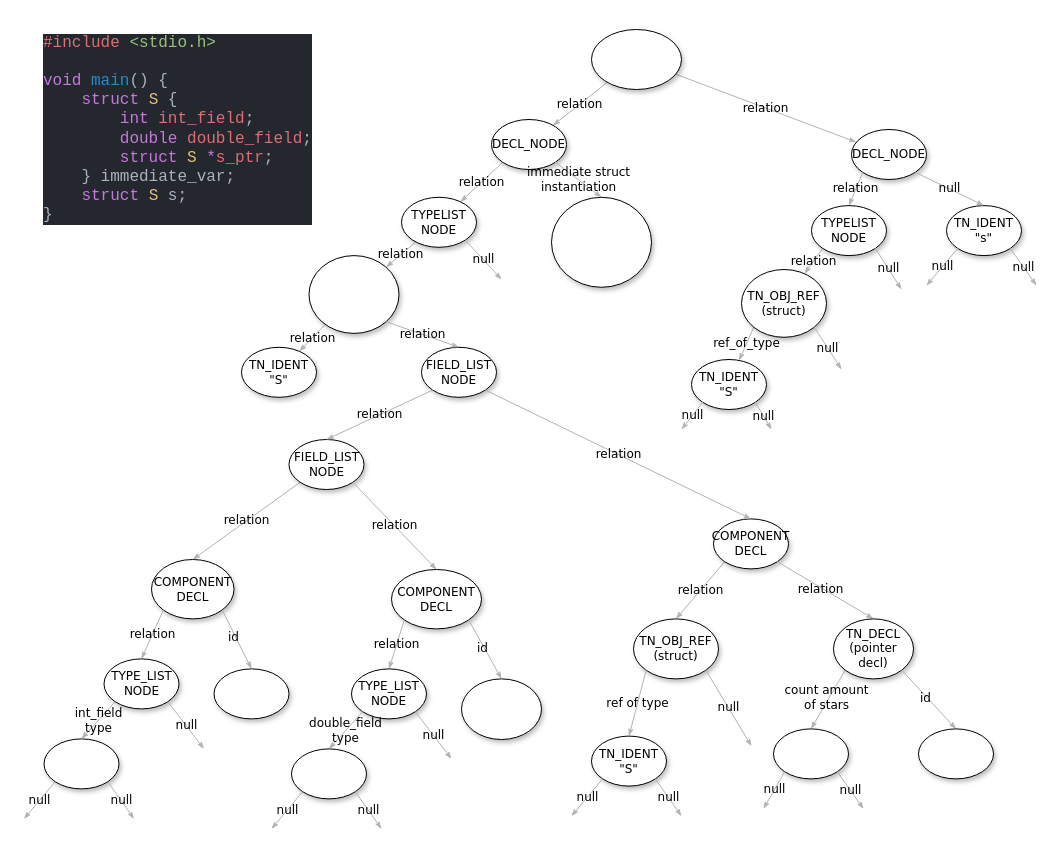
Some shapes in this 1061 by 853 pixel diagram are drawn without their labels. Here are the shapes that lost their labels. From the top down, the centre of each, then its label:
[637,60]: TN_DECL_LIST
[602,243]: TN_IDENT "immediate_var"
[354,295]: TN_OBJ_DEF tok=304 struct
[252,695]: TN_IDENT "int_field"
[502,710]: TN_IDENT "double_field"
[82,765]: TN_TYPE "INT"
[329,775]: TN_TYPE "DOUBLE"
[811,755]: TN_PNTR
[957,755]: TN_IDENT "s_ptr"
